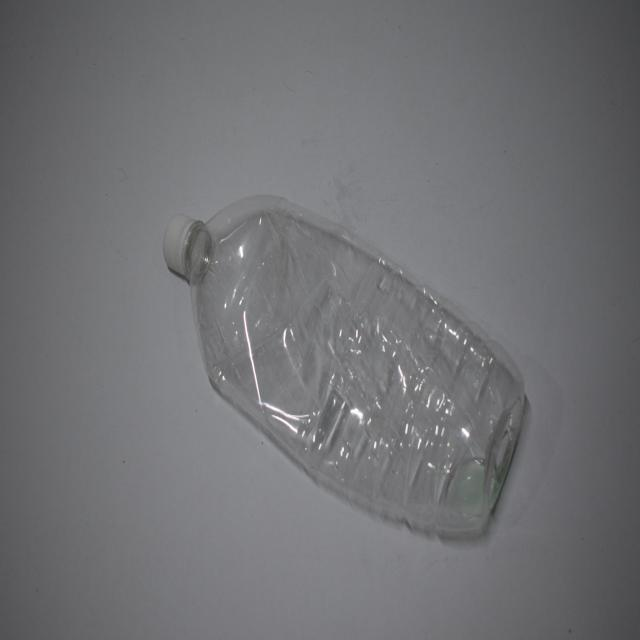bottle: (154, 173, 545, 590)
